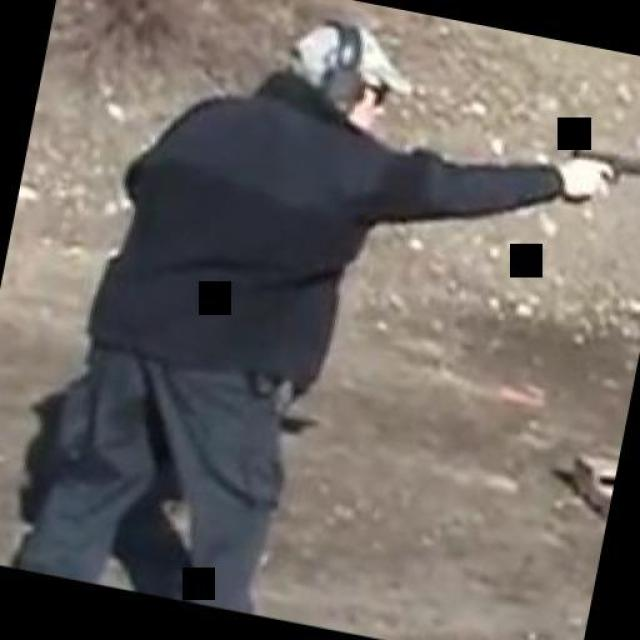gun: (549, 138, 640, 216)
